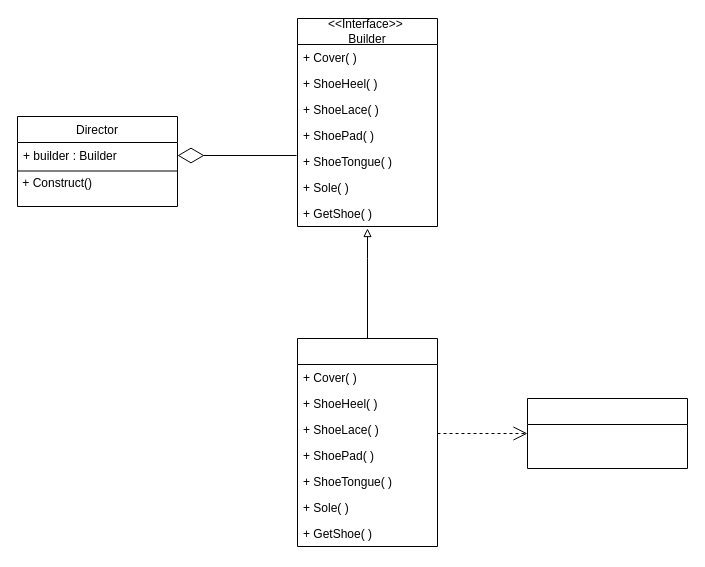
The diagram is 705 pixels wide and 567 high, and some of its shapes have lost their labels. The box of each missing label's shape, as (x1, y1, x2, y2) in pixels:
ConcreteBuilder: (296, 338, 438, 546)
Shoe: (526, 398, 688, 468)
